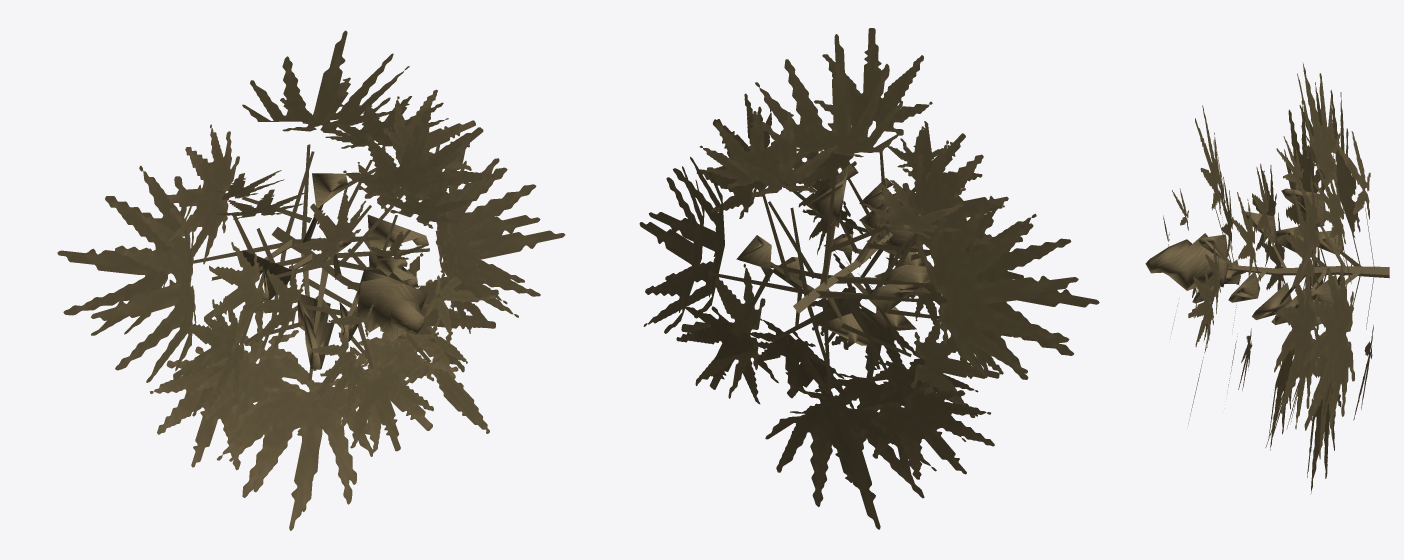
The model's file is p_landrace_ripe_c4_cards.obj.
3 views of the same model, side by side, from view 1: azimuth 30°, elevation 25°; view 2: azimuth 150°, elevation 25°; view 3: azimuth 270°, elevation 25° (orthographic). The views are drawn at different scales.
Size of the model in its own units: 1.56 by 1.54 by 0.71.
1 material, 1 textured.
